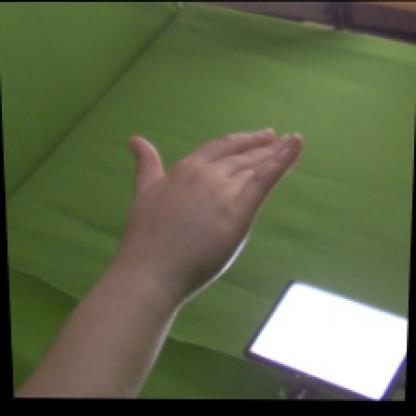Hand: (128, 126, 304, 282)
